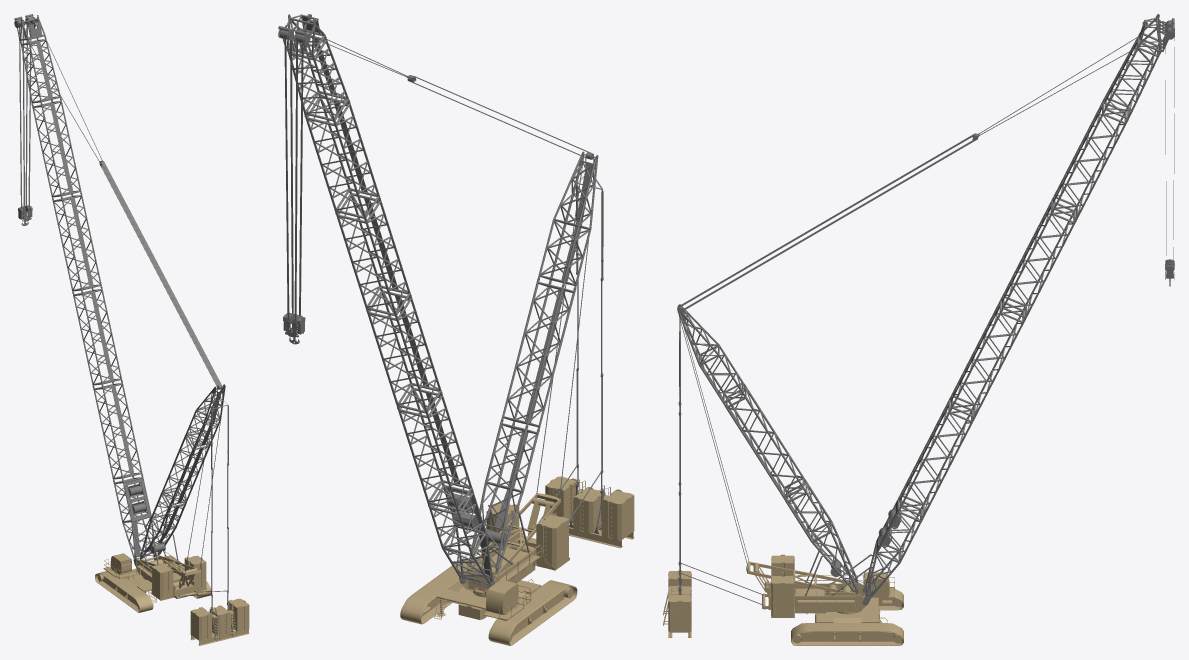
File: crawler cranes.fbx
3 views of the same model, side by side, from view 1: azimuth 30°, elevation 25°; view 2: azimuth 150°, elevation 25°; view 3: azimuth 270°, elevation 25° (orthographic). The views are drawn at different scales.
Parts seen in each view (by area): view 1: Gruz_03, set5_test005, set5_test004, set5_test006, set5_test, Object007, kanat_up2, kruk, Object002, ss3, Object010, Object006 (+8 smaller); view 2: Gruz_03, ss3, Object010, Object002, set5_test005, set5_test, set5_test004, set5_test006, kruk, Object007, Object005, Object001 (+9 smaller); view 3: ss3, Gruz_03, Object001, Object002, Object007, set5_test, set5_test005, set5_test004, set5_test006, Object010, Object005, kanat_up2 (+3 smaller).
Part boxes in pixels (box(x1,y1,x2,y2)): Gruz_03: box(152, 555, 249, 640); set5_test005: box(52, 192, 102, 293); set5_test004: box(72, 286, 122, 387); set5_test006: box(31, 98, 81, 199); set5_test: box(93, 381, 142, 481); Object007: box(113, 475, 168, 567); kanat_up2: box(99, 160, 221, 386); kruk: box(18, 23, 32, 225); Object002: box(140, 489, 186, 570); ss3: box(95, 555, 211, 612); Object010: box(161, 431, 210, 506); Object006: box(20, 37, 61, 105); Gruz_03: box(486, 476, 634, 568); ss3: box(400, 558, 577, 645); Object010: box(501, 278, 576, 428); Object002: box(468, 419, 539, 573); set5_test005: box(335, 191, 411, 318); set5_test: box(397, 385, 472, 512); set5_test004: box(366, 288, 441, 415); set5_test006: box(304, 95, 380, 221); kruk: box(283, 36, 305, 344); Object007: box(428, 483, 512, 587); Object005: box(537, 151, 598, 289); Object001: box(460, 501, 569, 596); ss3: box(791, 589, 903, 645); Gruz_03: box(668, 554, 794, 631); Object001: box(755, 565, 866, 617); Object002: box(785, 479, 857, 595); Object007: box(832, 497, 923, 605); set5_test: box(899, 397, 974, 518); set5_test005: box(1001, 198, 1076, 319); set5_test004: box(950, 298, 1025, 419); set5_test006: box(1052, 99, 1127, 220); Object010: box(724, 384, 804, 499); Object005: box(677, 304, 744, 405); kanat_up2: box(679, 133, 979, 311).
Bounding box in the file's own units: 1043 × 6669 × 5113.
